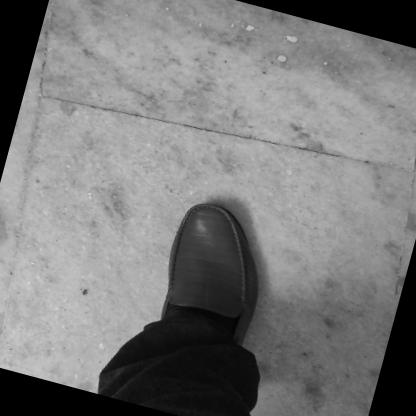ankle: (187, 306, 189, 308)
heel: (162, 316, 165, 319)
pinky: (236, 228, 241, 232)
right_foot: (152, 199, 279, 351)
toe: (193, 209, 199, 214)
